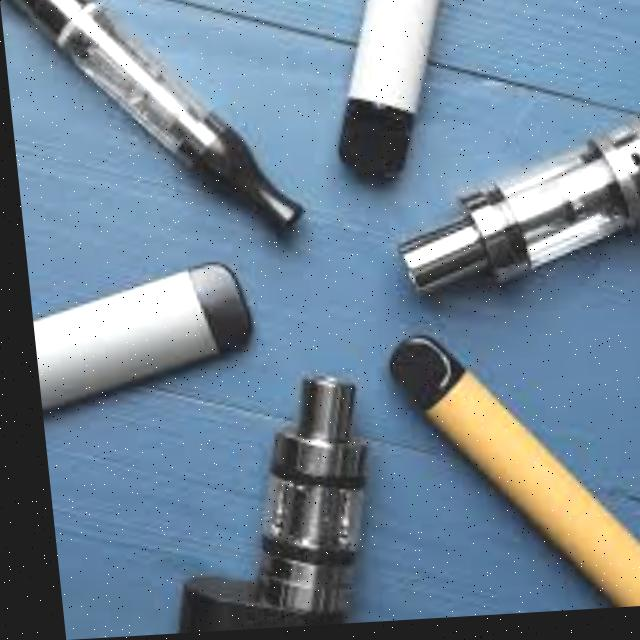vape: (1, 0, 309, 261), (379, 329, 640, 623), (140, 376, 370, 634), (378, 116, 640, 319), (23, 267, 250, 411), (322, 0, 460, 179)
